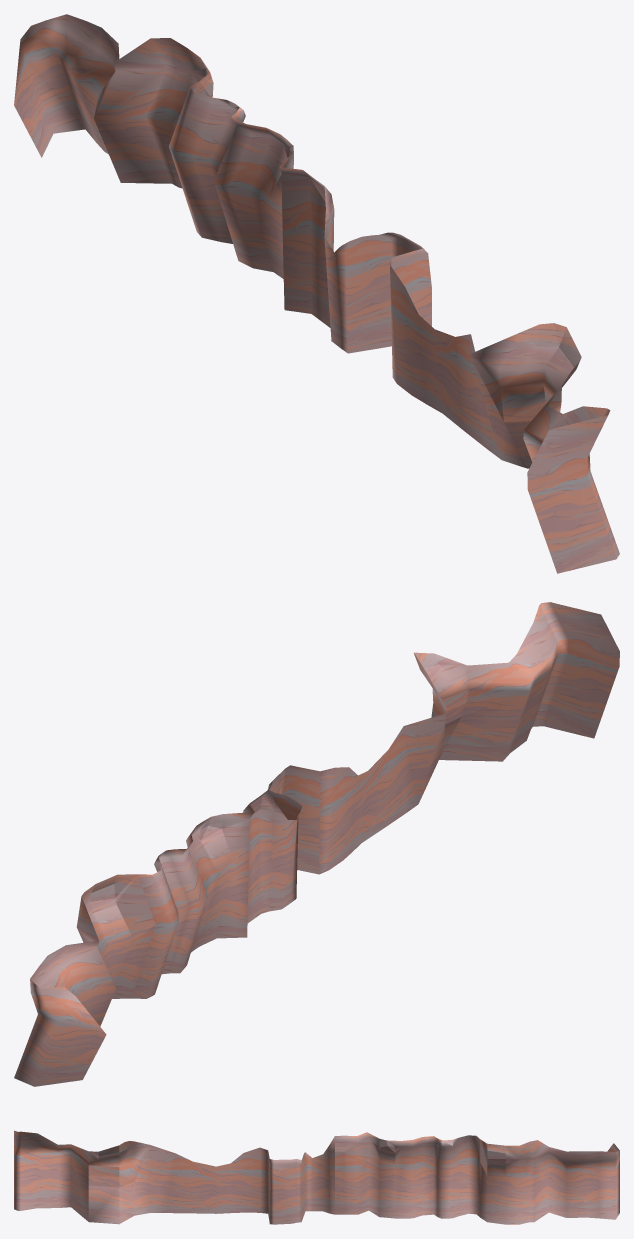
File: Mesh_Adventure_Canyon_Variant_Terrain_03.fbx
3 views of the same model, one above another, from view 1: azimuth 30°, elevation 25°; view 2: azimuth 150°, elevation 25°; view 3: azimuth 270°, elevation 25° (orthographic). The views are drawn at different scales.
Parts seen in each view (by area): view 1: Mesh_Adventure_Canyon_Variant_Terrain_03; view 2: Mesh_Adventure_Canyon_Variant_Terrain_03; view 3: Mesh_Adventure_Canyon_Variant_Terrain_03.
Part boxes in pixels (x1=…): Mesh_Adventure_Canyon_Variant_Terrain_03: x1=14, y1=14, x2=619, y2=573; Mesh_Adventure_Canyon_Variant_Terrain_03: x1=14, y1=602, x2=619, y2=1086; Mesh_Adventure_Canyon_Variant_Terrain_03: x1=14, y1=1130, x2=619, y2=1224.
Bounding box in the file's own units: 979 × 942 × 6525.
